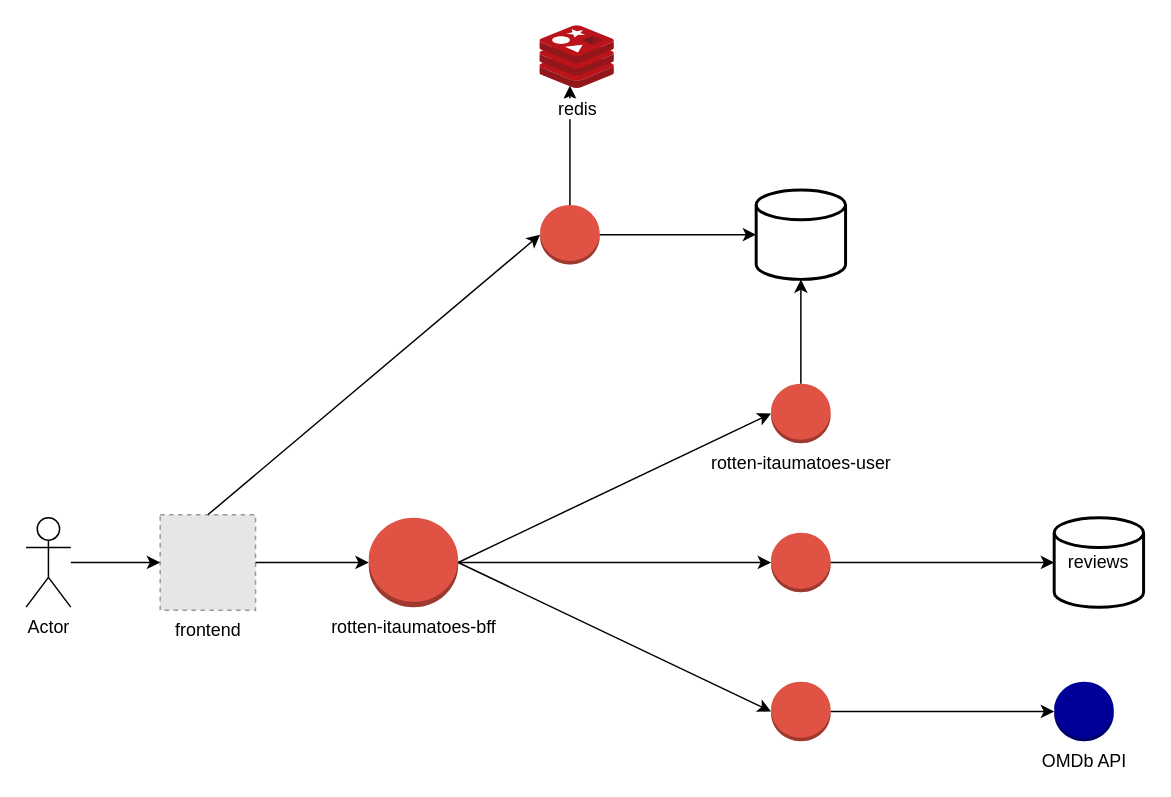
The diagram is 1171 pixels wide and 797 high, and some of its shapes have lost their labels. Grey dashed boxes stand in for pictures. The centre of each missing label's shape, as x and y in pixels:
auth-server: pixel 569 233
rotten-itaumatoes-movies: pixel 800 710
rotten-itaumatoes-reviews: pixel 800 561
user: pixel 800 234
